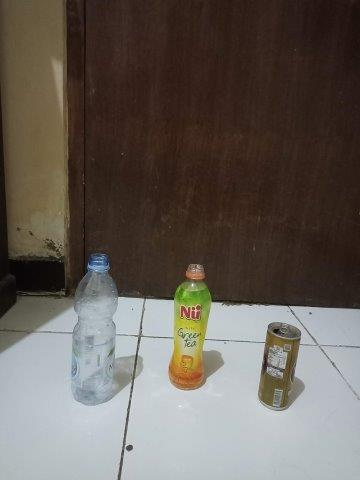botolplastik: (71, 253, 118, 405), (169, 264, 211, 391)
kaleng: (258, 321, 302, 411)
